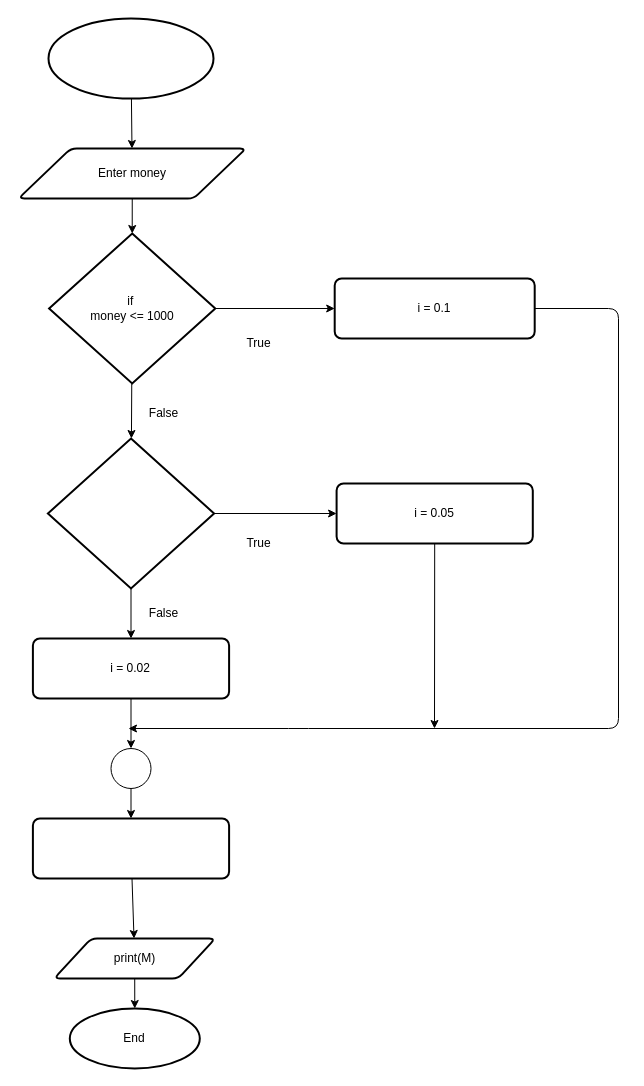
This 644x1086 diagram has some shape labels left out. The shapes that lost their labels are listed below. From the top down, each one's centre as x and y in pixels, then its label:
the point at 130,58: Start
the point at 130,513: if money <= 10000
the point at 130,848: M = money +(M*i)
